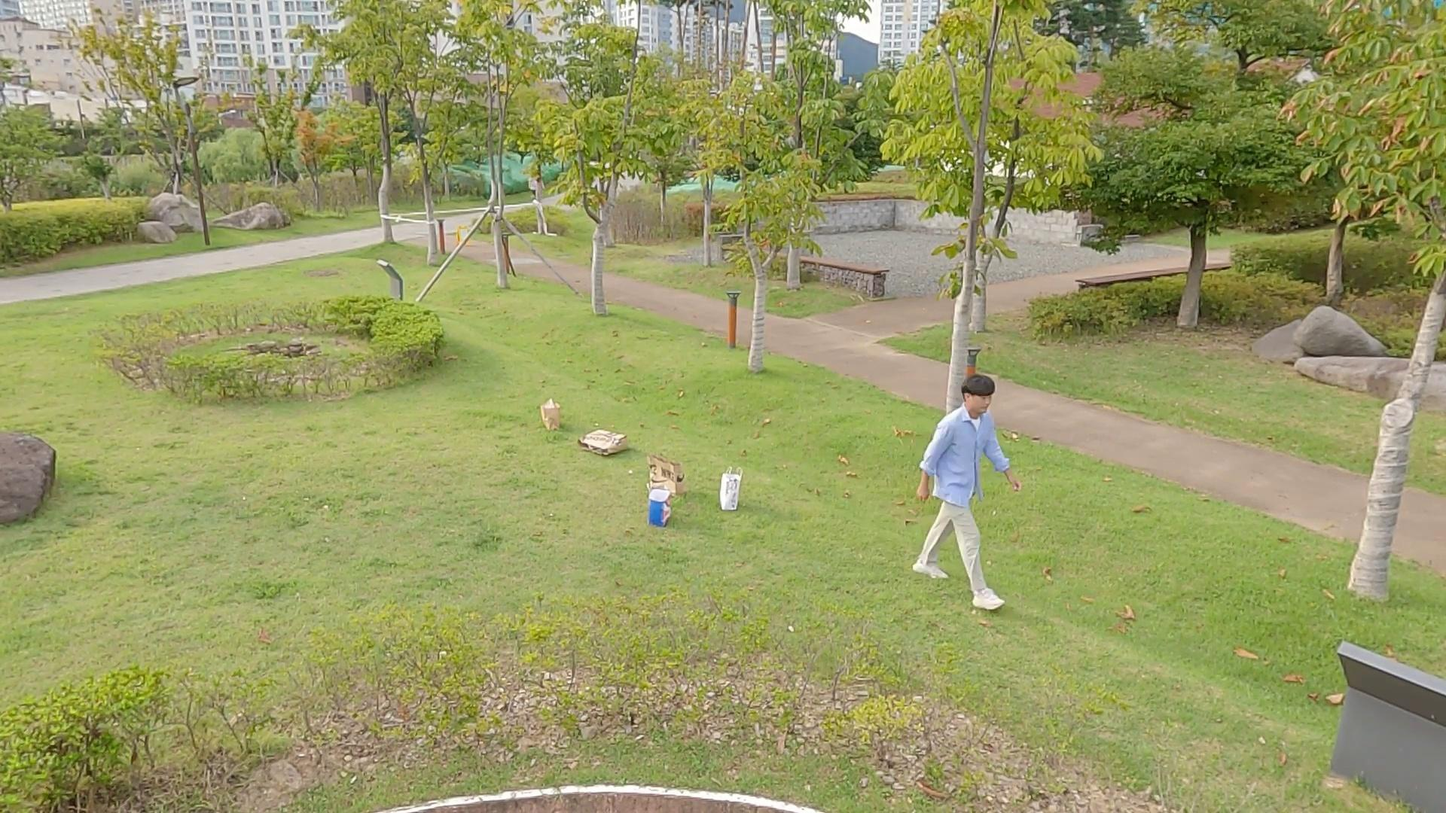person: (909, 368, 1026, 619)
trash: (646, 446, 687, 499), (717, 456, 744, 521), (579, 426, 626, 459), (644, 483, 678, 528), (536, 398, 568, 432)
